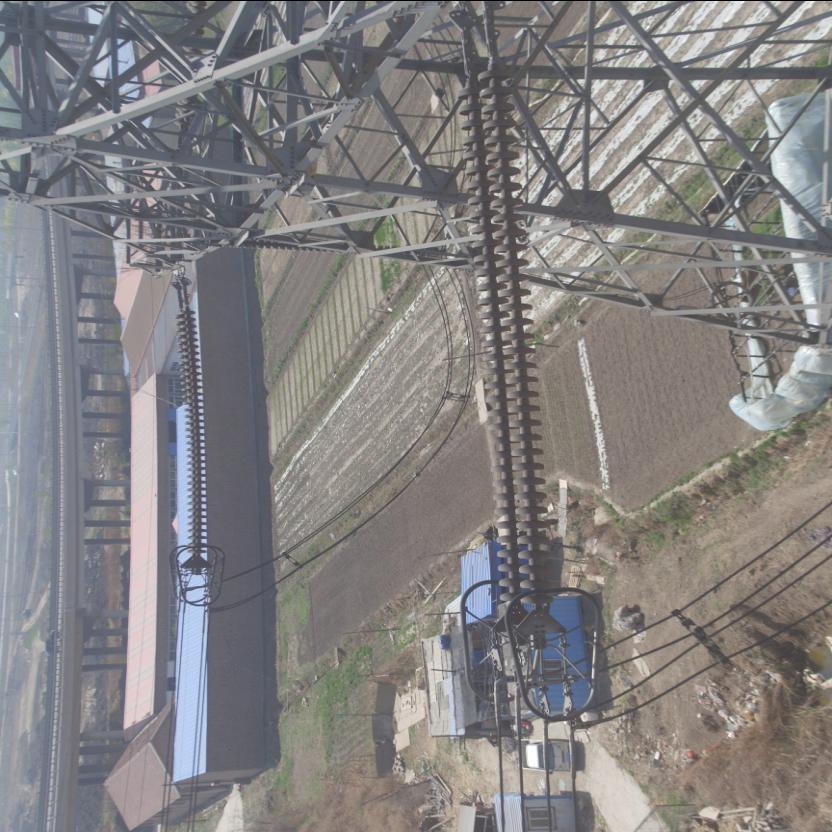insulator: (454, 34, 552, 620), (170, 291, 208, 558)
